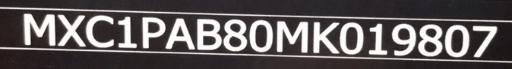letter: (20, 11, 58, 48), (82, 14, 118, 49), (274, 20, 310, 55), (164, 16, 196, 53), (308, 20, 340, 57), (470, 25, 500, 58), (57, 13, 85, 48), (442, 24, 470, 59), (137, 16, 165, 49), (221, 18, 249, 51), (195, 18, 223, 51), (338, 22, 366, 55), (416, 24, 444, 57), (248, 20, 274, 53), (390, 23, 416, 56), (366, 22, 390, 57), (116, 15, 138, 50)
